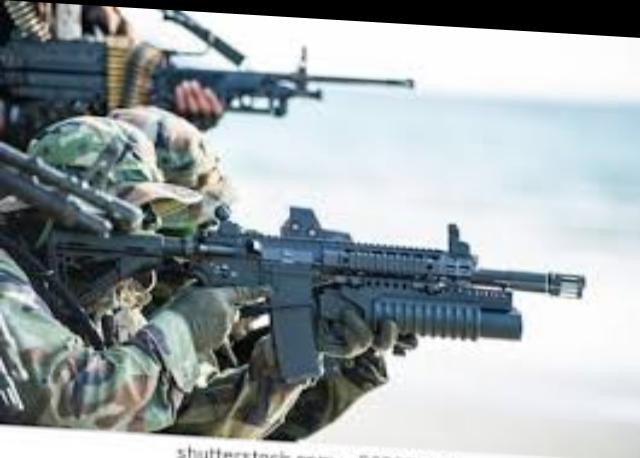other: (0, 136, 160, 425)
